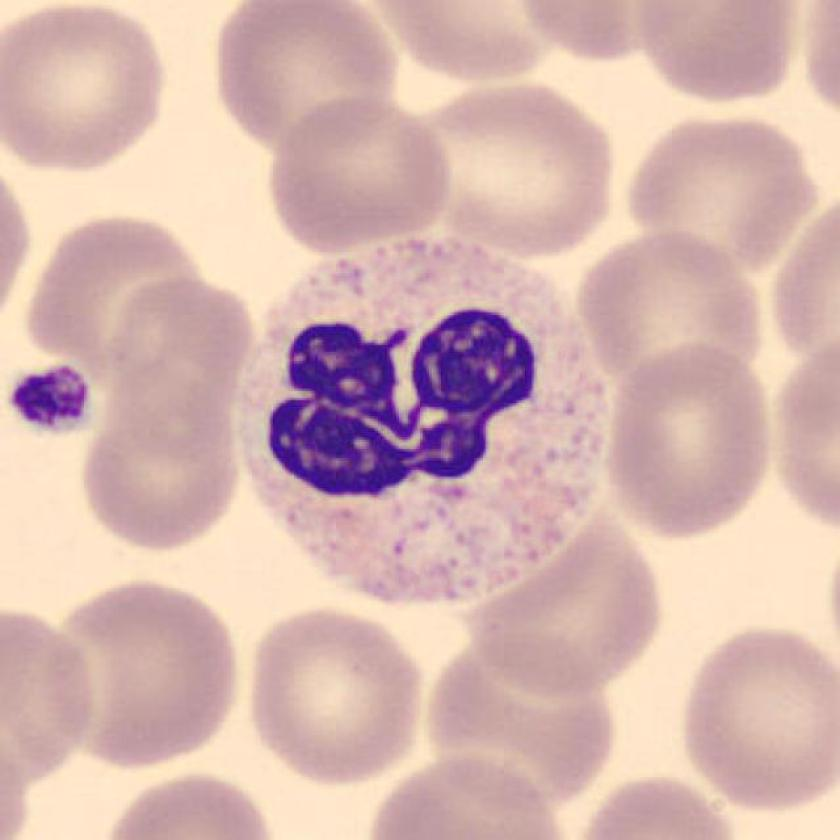neutrophil: (239, 240, 608, 601)
